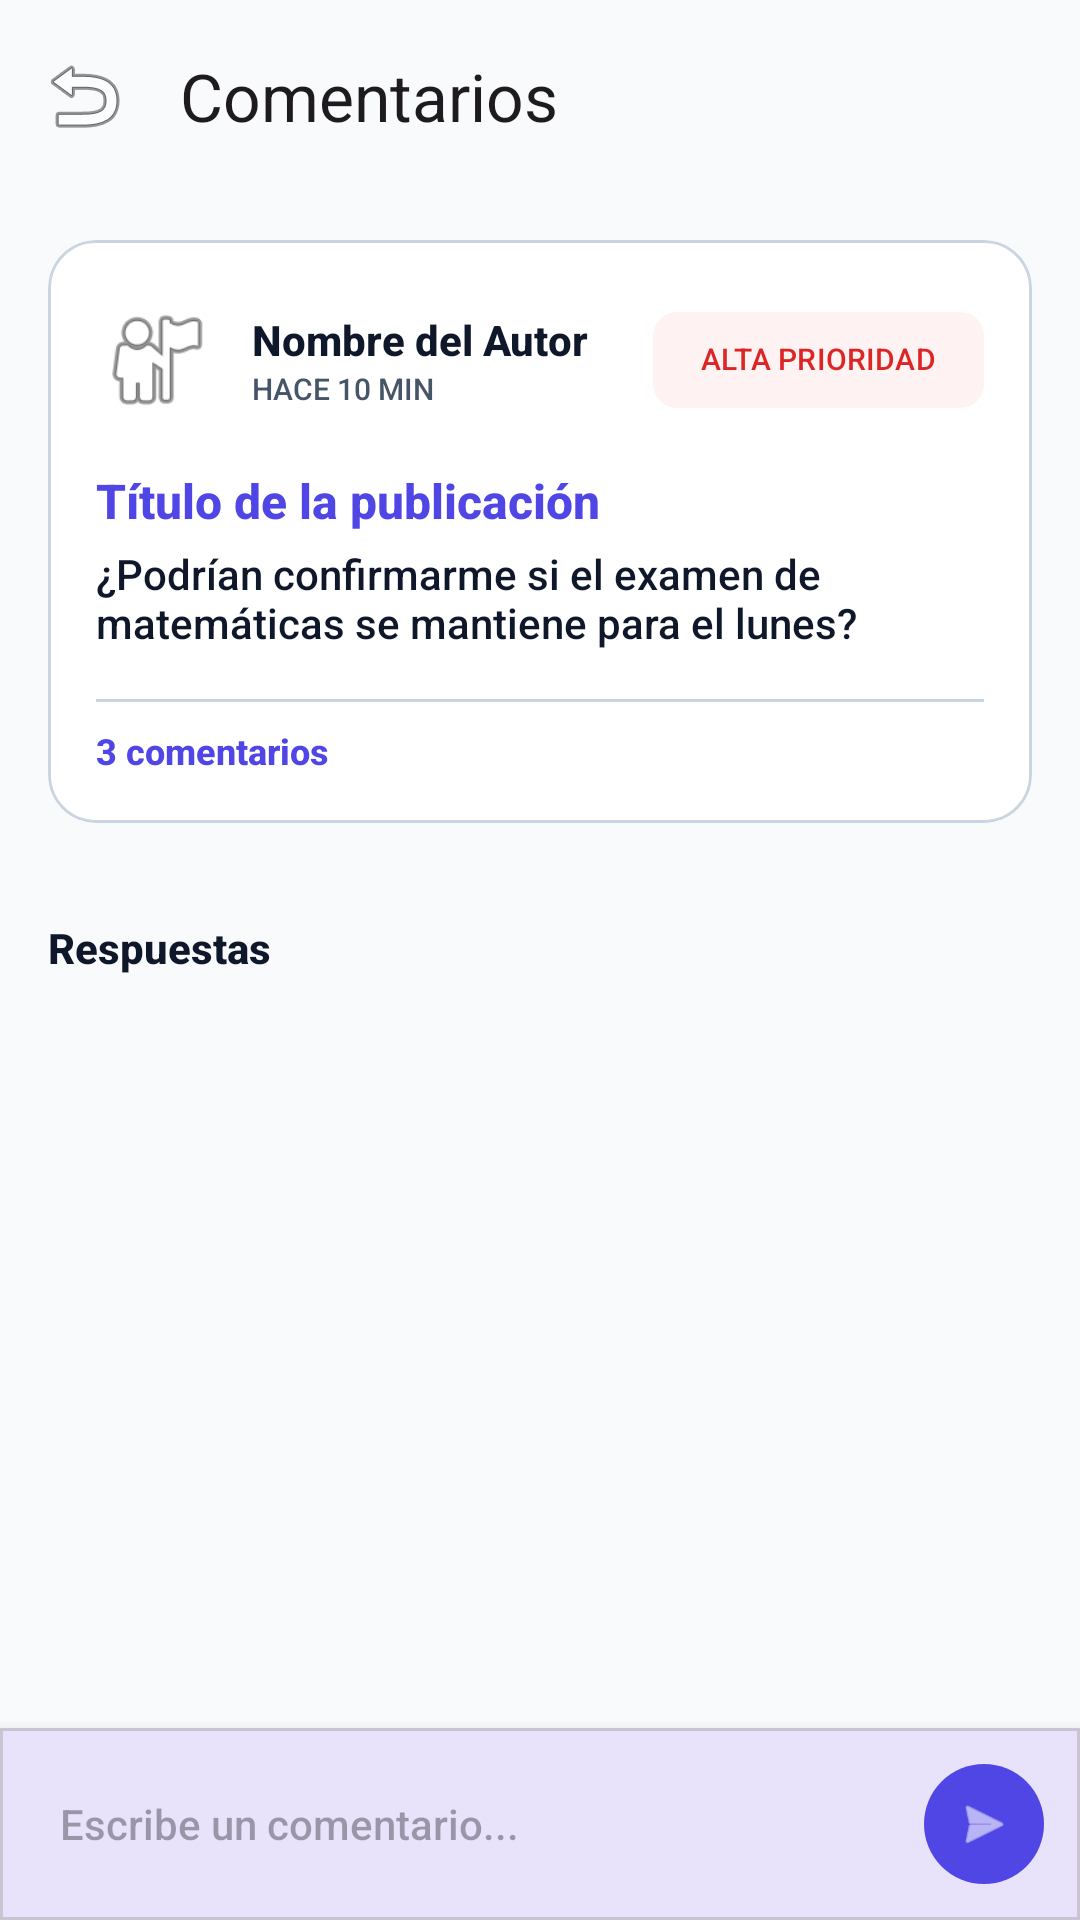

Screen size 1080×1920. Icon name, then its box in pixels as bbox=(x1, y1, x2, y2):
send: bbox=(924, 1764, 1044, 1884)
